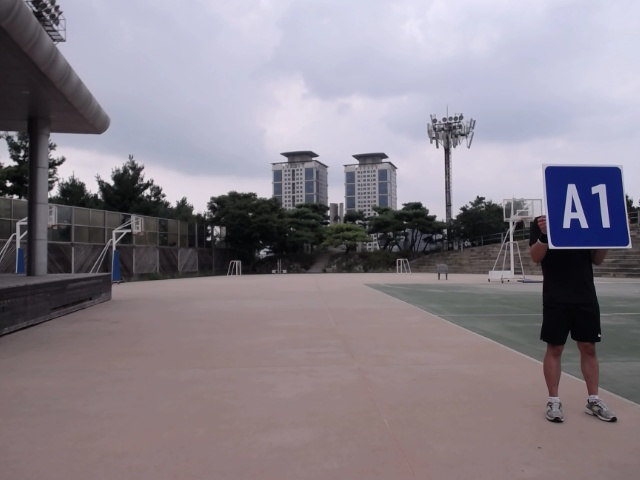delivery_a1: (543, 165, 631, 249)
